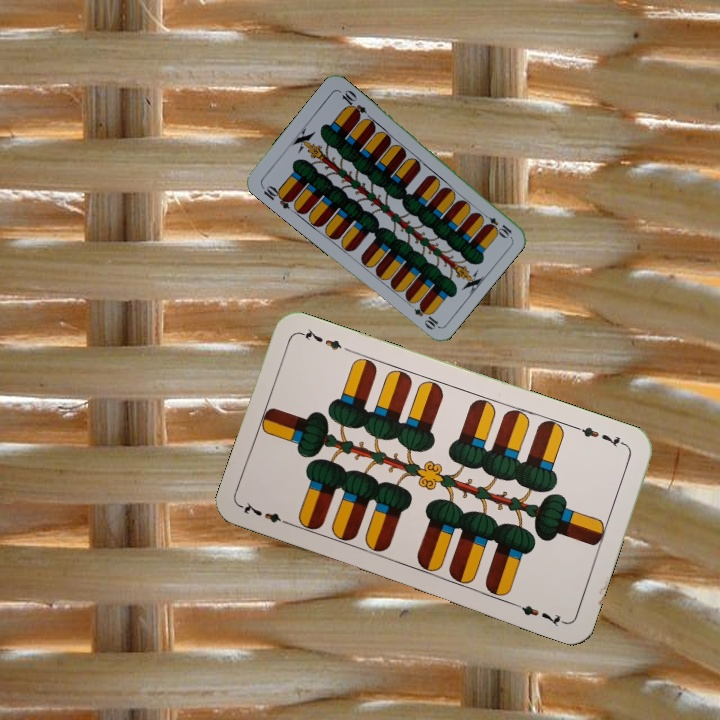E10: (478, 209, 514, 240), (258, 181, 295, 211)
E7: (238, 498, 295, 529), (572, 422, 629, 450)
